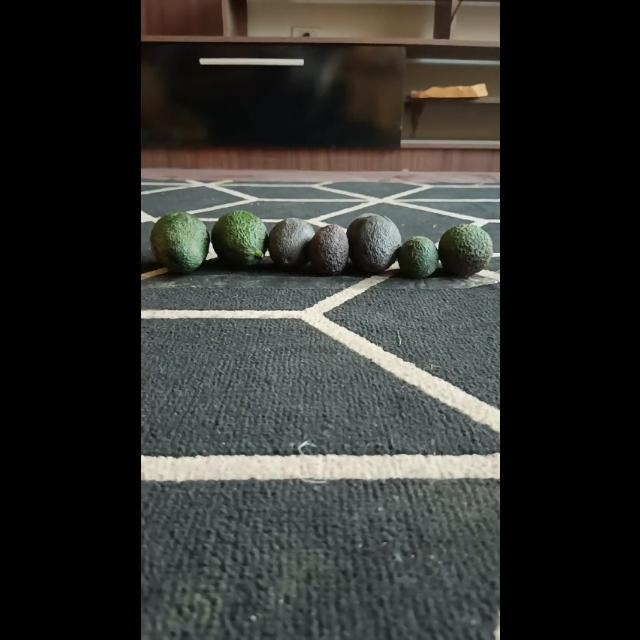Primera: (150, 210, 210, 274), (210, 210, 268, 268), (346, 213, 402, 273)
Segunda: (438, 222, 492, 278), (267, 218, 315, 268)
Tercera: (306, 225, 348, 275), (396, 236, 438, 278)
